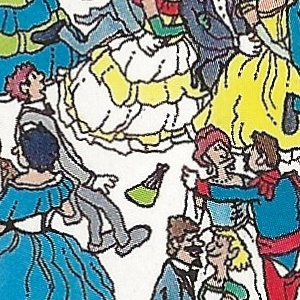Wenda: (140, 116, 160, 184)
